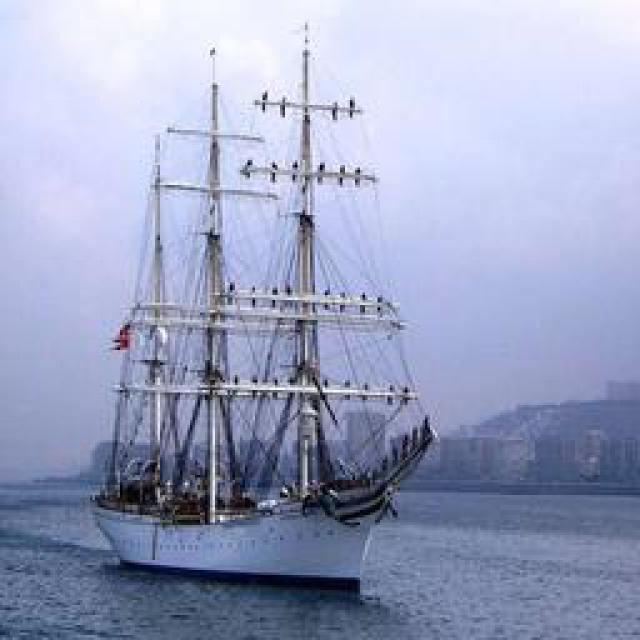Ship: (99, 29, 439, 594)
